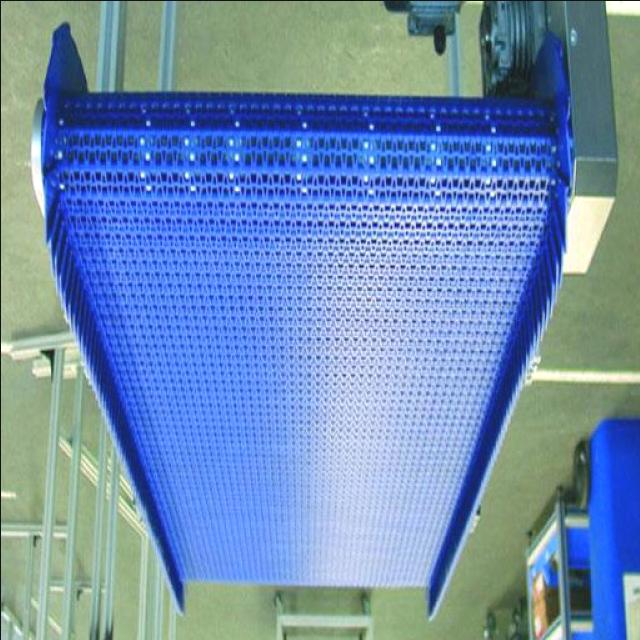conveyor: (42, 34, 570, 592)
